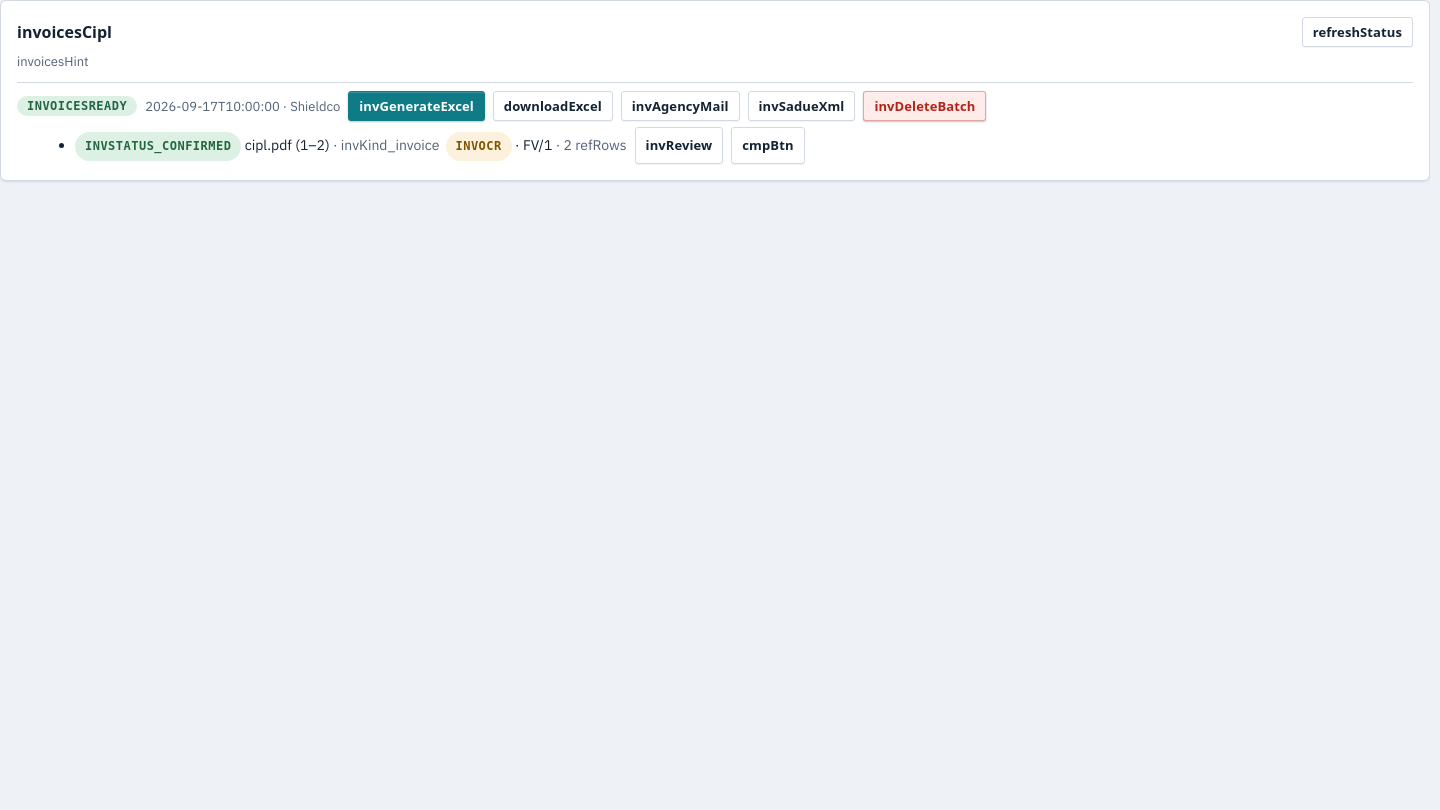
Test: InvoiceBatchesPanel › agency mail: opens the preview first, .eml only from the preview; 409 shown in the preview
Step 1. Click the button "invAgencyMail" → coordinates (680, 106), box [621,91,740,121]
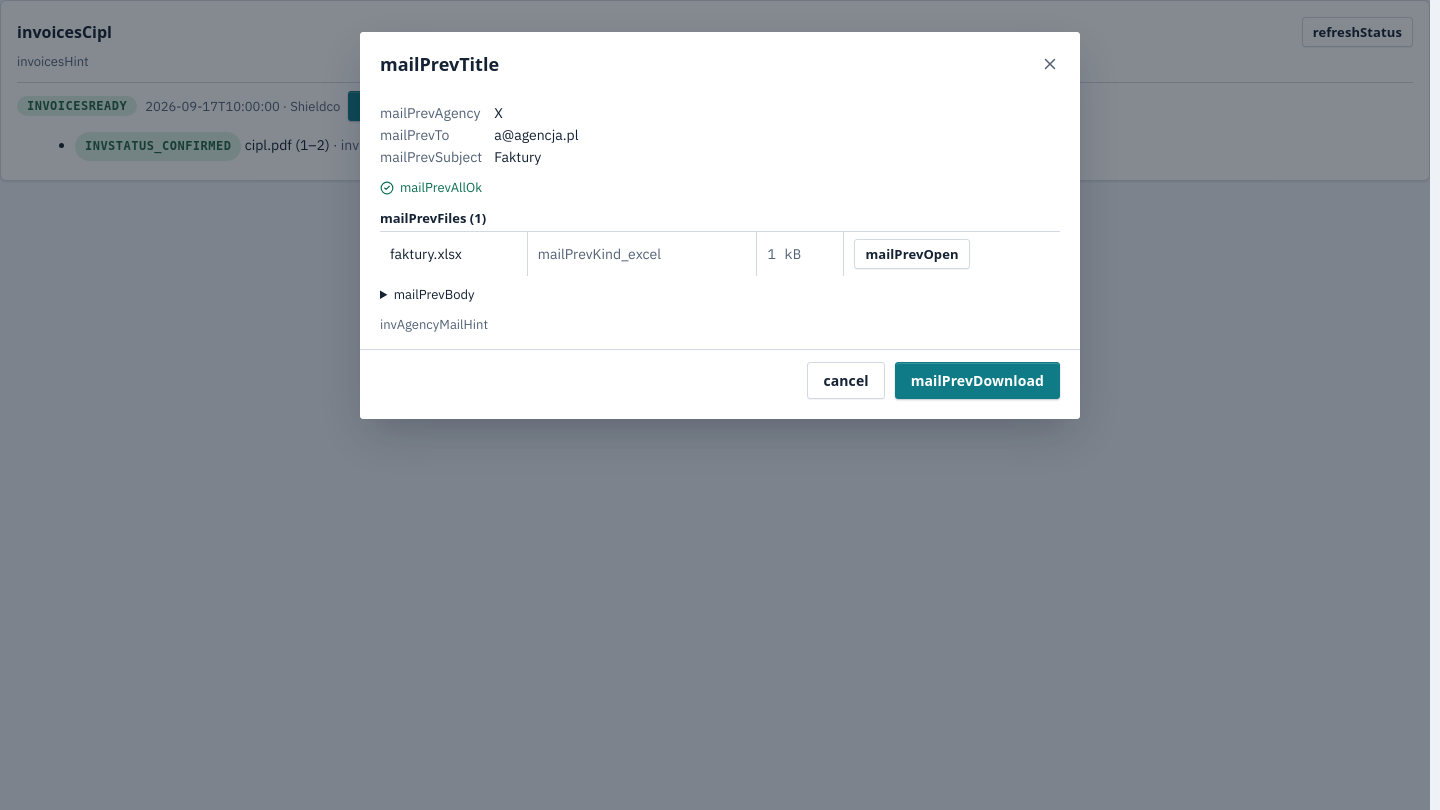
Check: the text "a@agencja.pl" is shown, box [494,126,578,144]
Step 2. Click the button "mailPrevDownload" → coordinates (977, 381), box [895,362,1060,399]
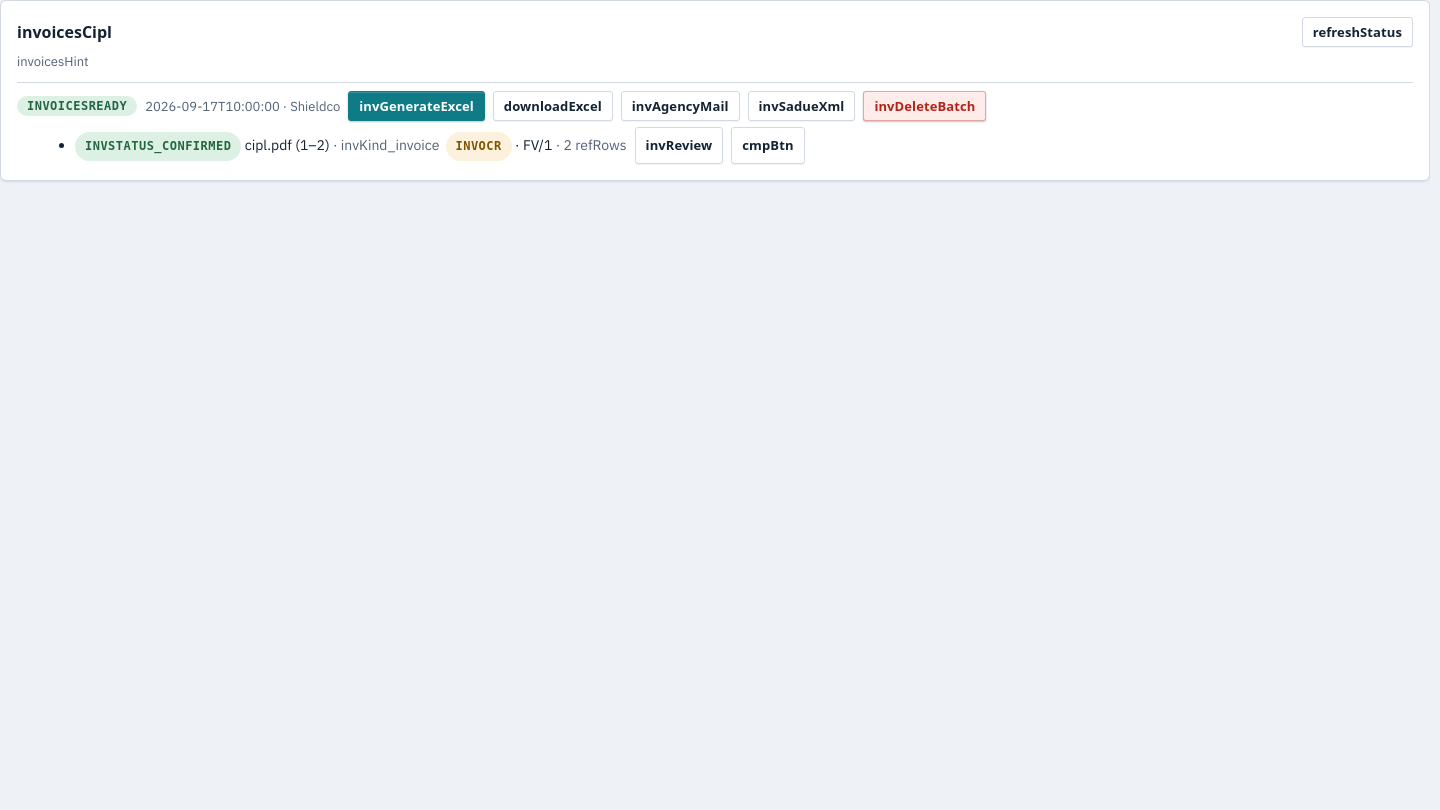
Step 3. Click the button "invAgencyMail" → coordinates (680, 106), box [621,91,740,121]
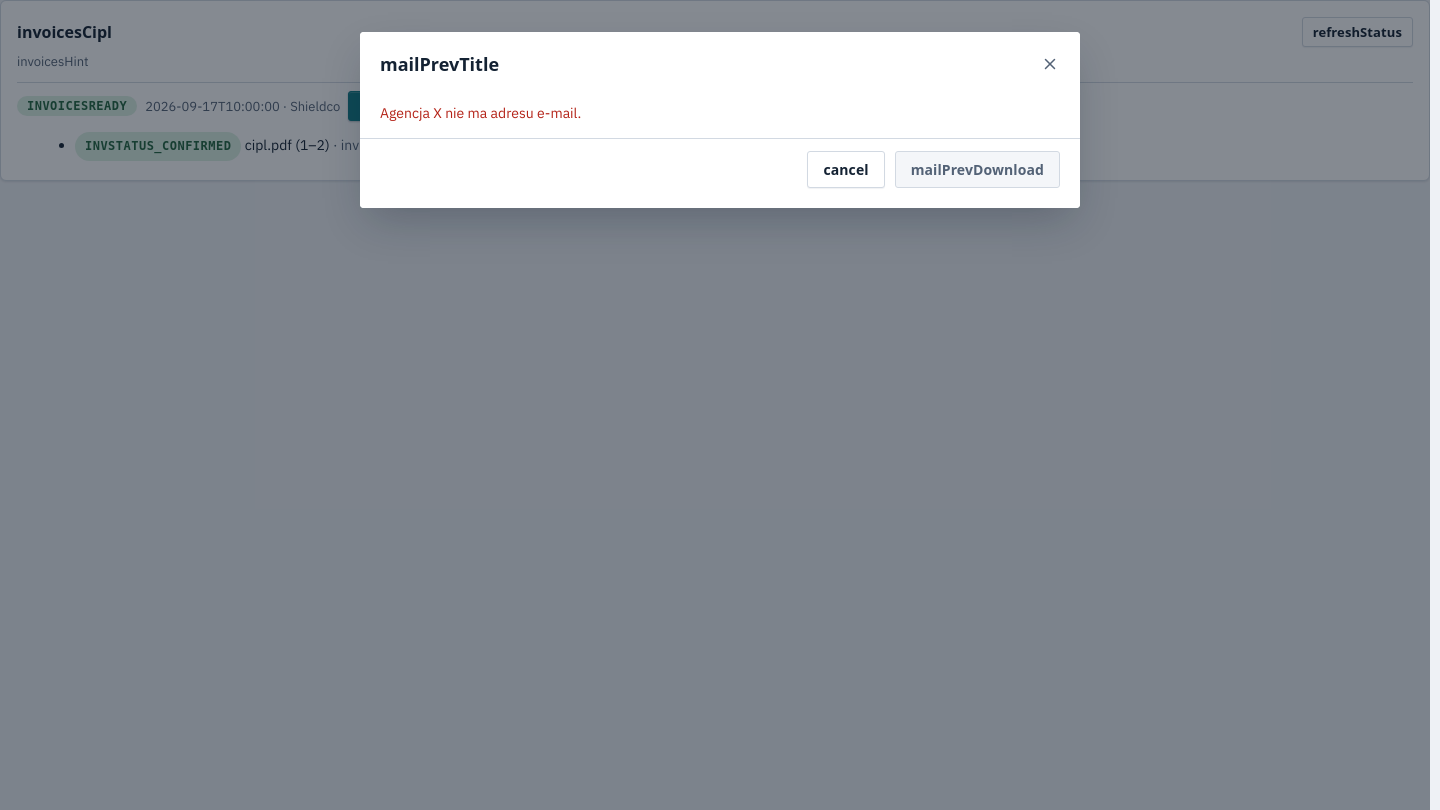
Check: the text "Agencja X nie ma adresu e-mail." is shown, box [380,104,581,122]
